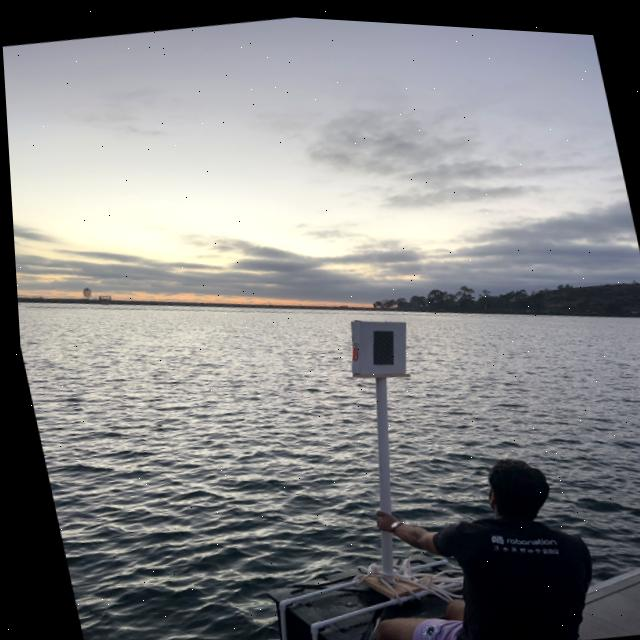led: (353, 312, 403, 379)
